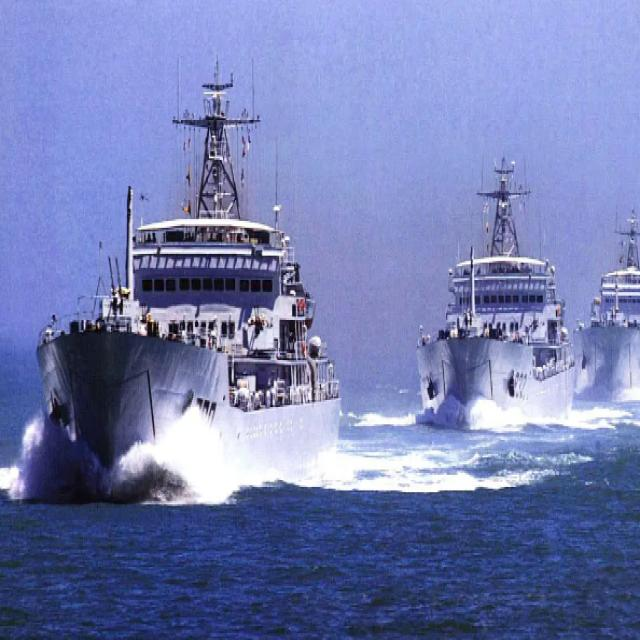navalvessels: (30, 63, 348, 493), (400, 155, 572, 433), (568, 174, 640, 405)
